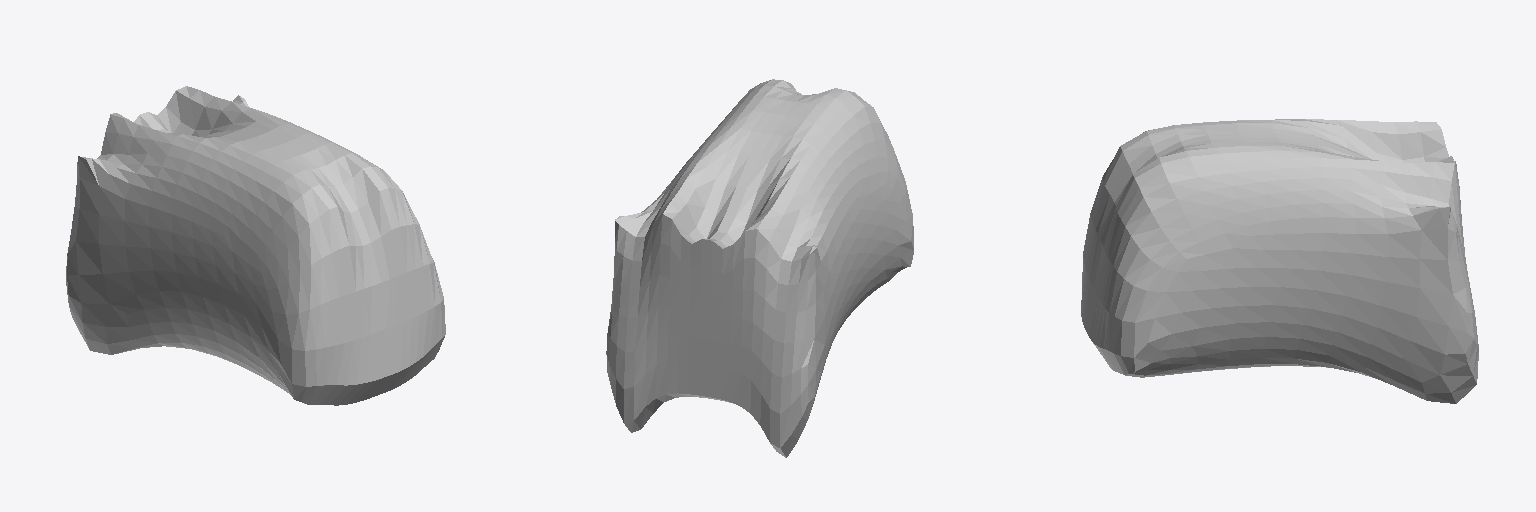
File: rearlsmalltoe4.obj
The picture shows the model from 3 angles: view 1: azimuth 30°, elevation 25°; view 2: azimuth 150°, elevation 25°; view 3: azimuth 270°, elevation 25°; orthographic projection.
Parts seen in each view (by area): view 1: Cube.156_Cube.158; view 2: Cube.156_Cube.158; view 3: Cube.156_Cube.158.
Part boxes in pixels (bbox=[...]): Cube.156_Cube.158: bbox=[66, 86, 445, 405]; Cube.156_Cube.158: bbox=[606, 79, 913, 457]; Cube.156_Cube.158: bbox=[1081, 119, 1478, 403].
Size of the model in its own units: 0.0298 by 0.0313 by 0.0448.